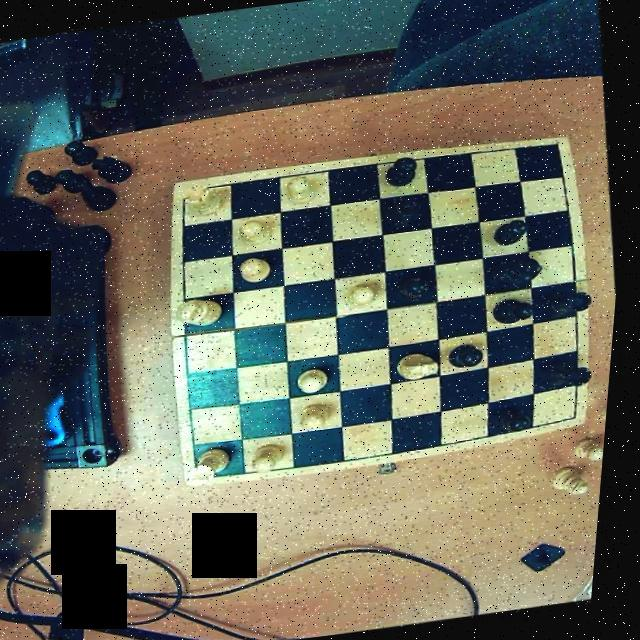chess-table-corners: (194, 460, 223, 484), (175, 180, 201, 204), (542, 135, 574, 153), (570, 402, 595, 423)
